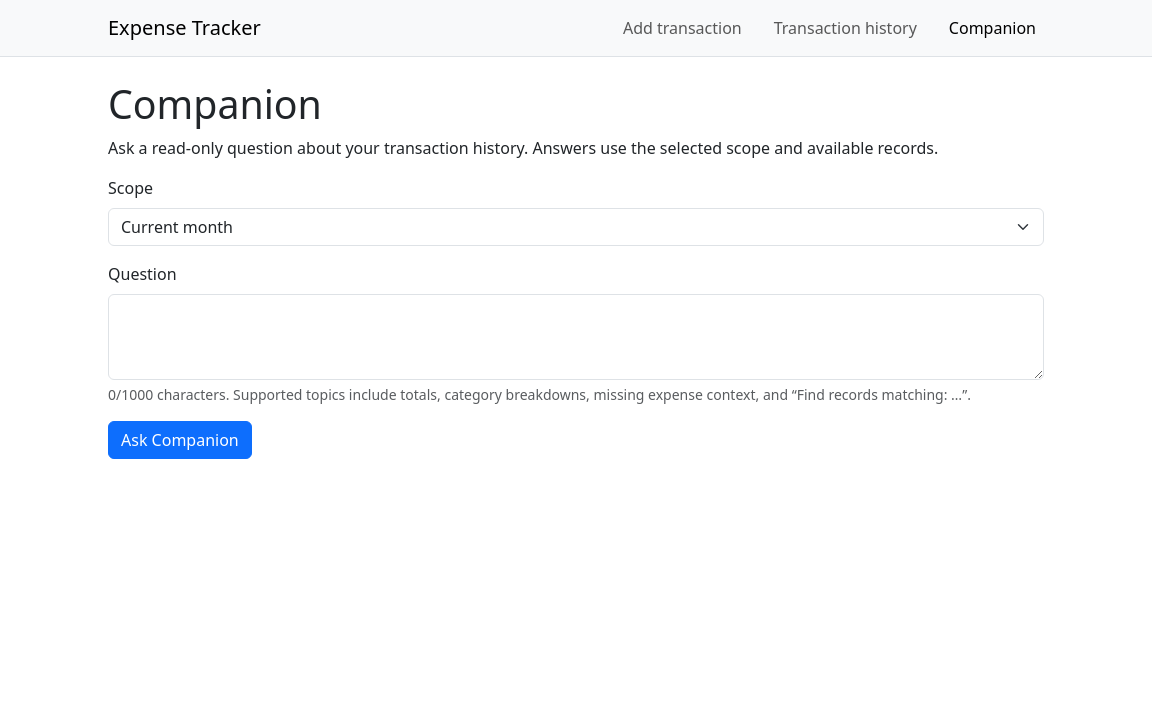
Test case: CompanionPage › uses all-history scope and replaces the active response after a later success
The width and height of the screenshot is (1152, 720).
Select "All history" in the dropdown labelled "Scope" at (576, 227), box [108,208,1044,246]
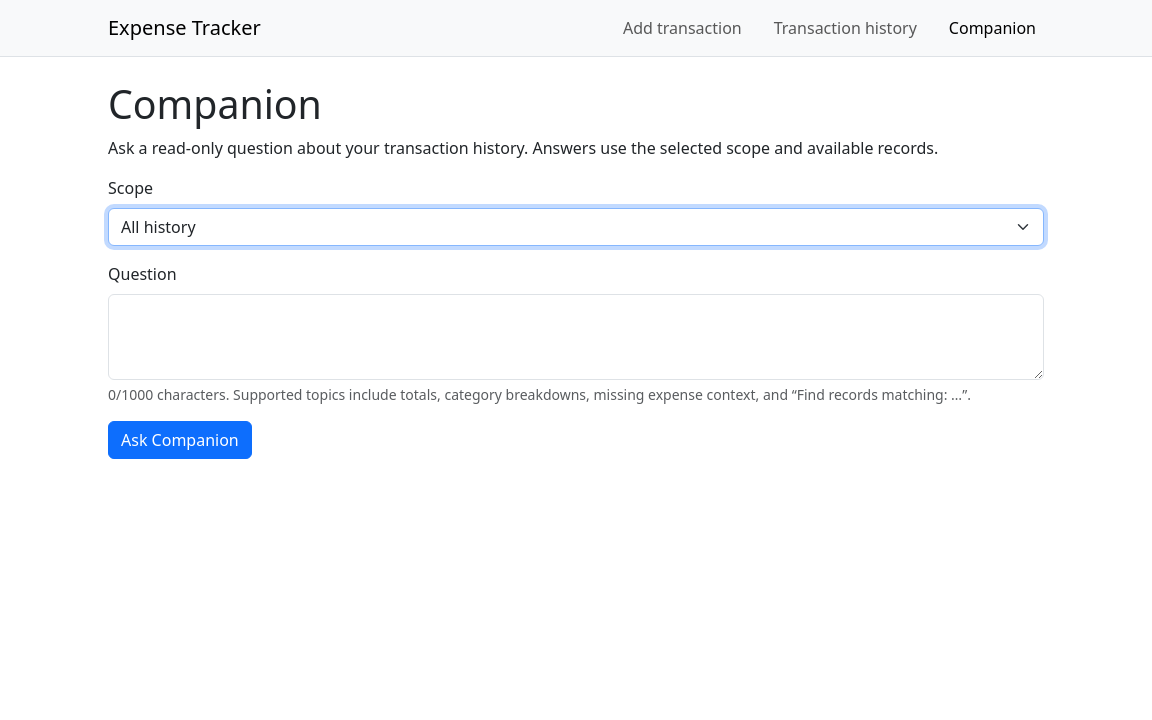
Type "Show income by category" into the text box labelled "Question".
click(576, 337); type("Show income by category")  # box [108,294,1044,380]
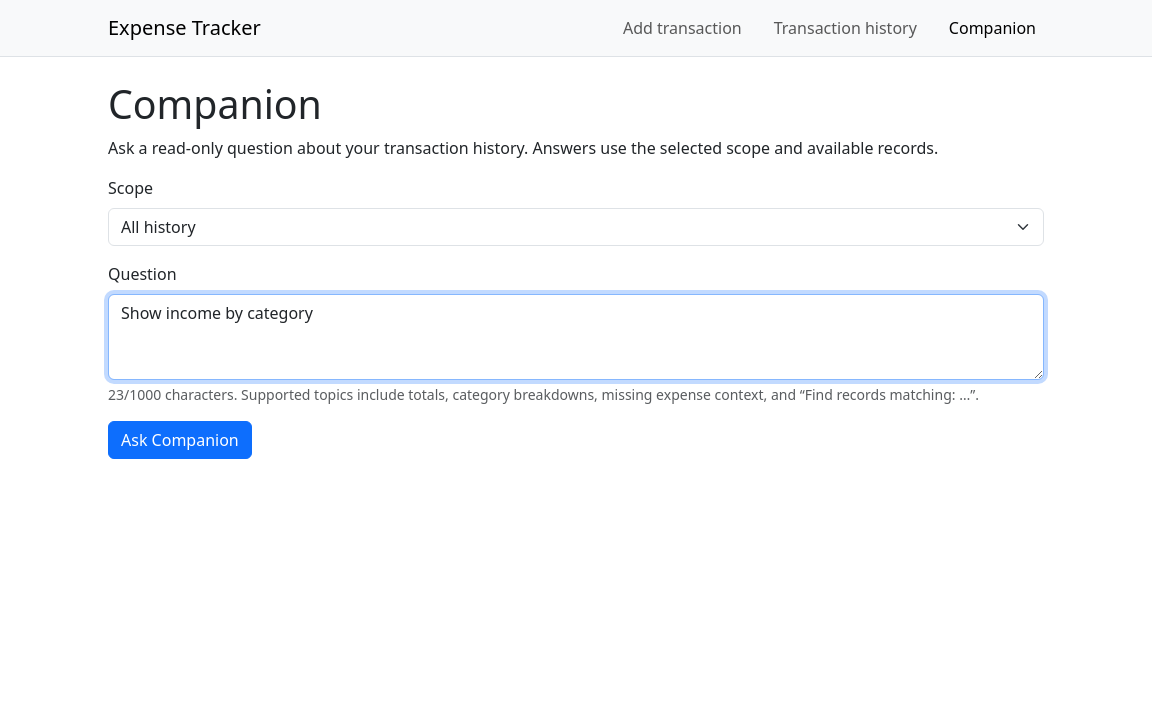
Click the button "Ask Companion".
click(180, 440)  # box [108,421,252,459]
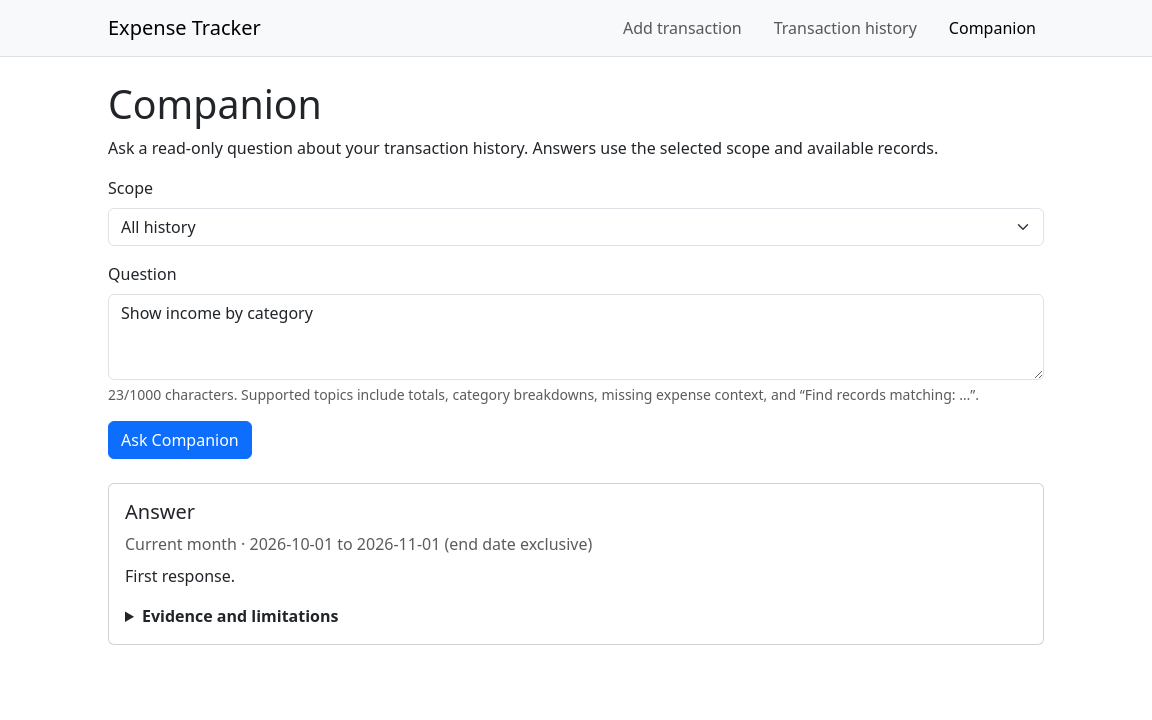
Check: the text "First response." is shown, box [125,565,235,587]
Click the button "Ask Companion".
click(180, 440)  # box [108,421,252,459]
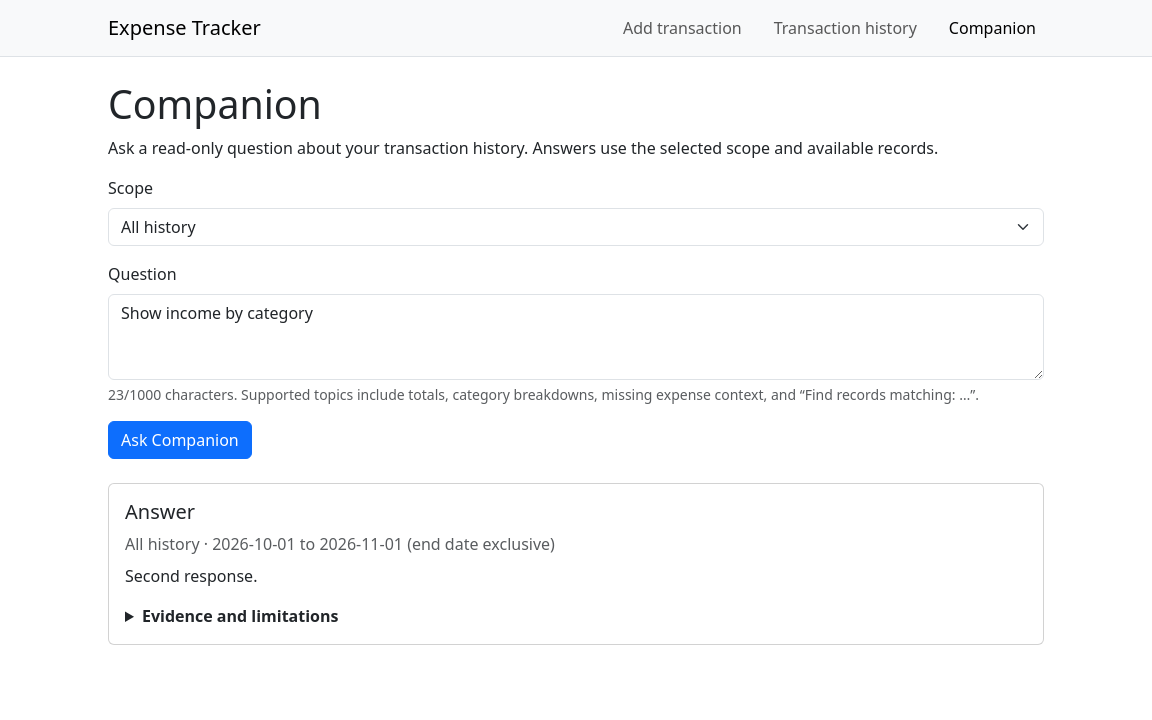
Check: the text "Second response." is shown, box [125,565,257,587]
Check: the text "First response." is gone
